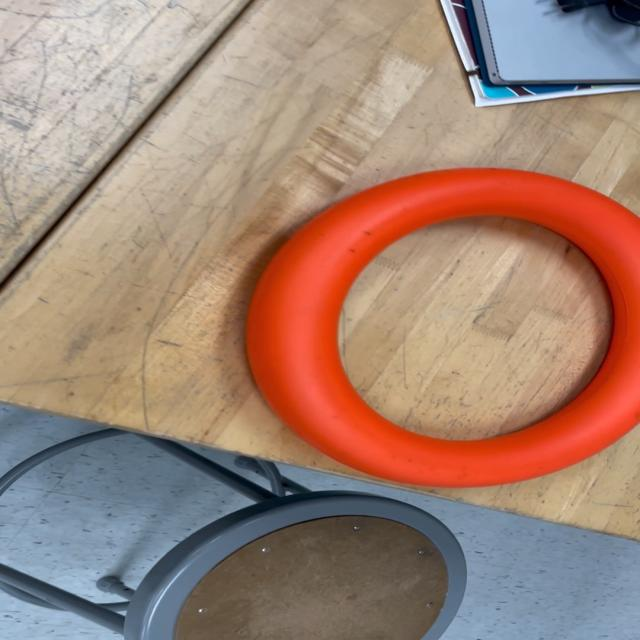note: (241, 165, 640, 489)
